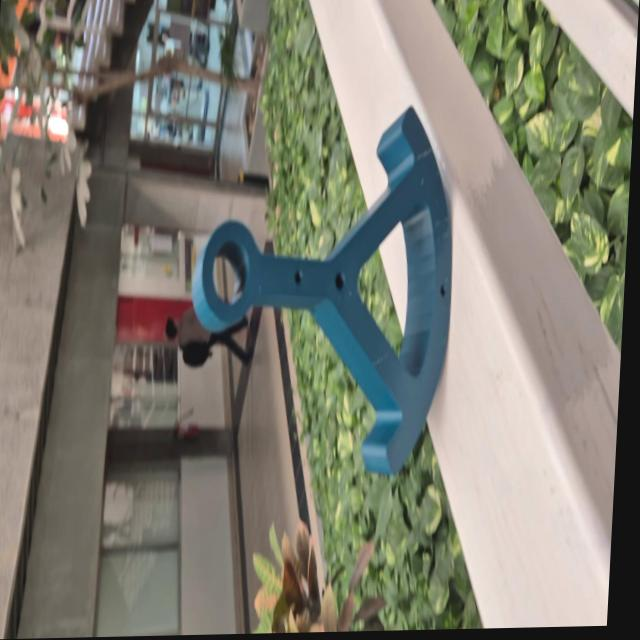haptic: (179, 103, 462, 481)
